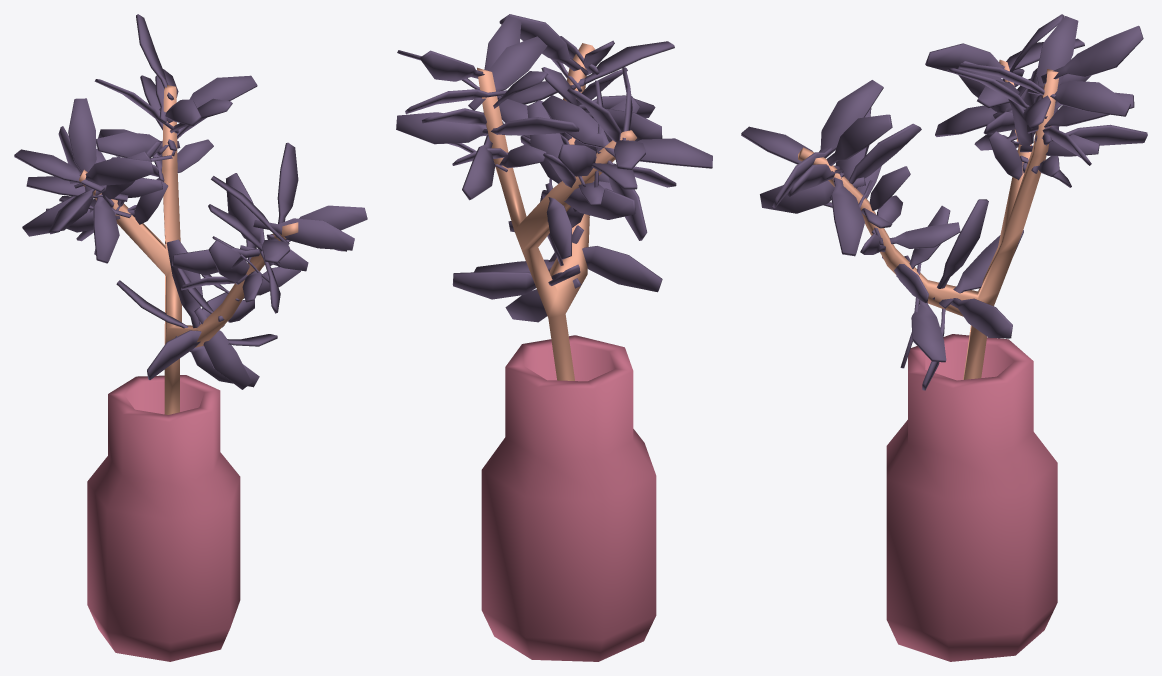
The model's file is plantSmall.fbx.
3 views of the same model, side by side, from view 1: azimuth 30°, elevation 25°; view 2: azimuth 150°, elevation 25°; view 3: azimuth 270°, elevation 25° (orthographic). The views are drawn at different scales.
Parts seen in each view (by area): view 1: PlantSmall; view 2: PlantSmall; view 3: PlantSmall.
Part boxes in pixels (x1,y1,x2,y2): PlantSmall: (14, 14, 367, 661); PlantSmall: (396, 14, 712, 661); PlantSmall: (741, 14, 1147, 661).
Bounding box in the file's own units: 28.3 × 60.28 × 35.22.
1 material, 1 textured.
